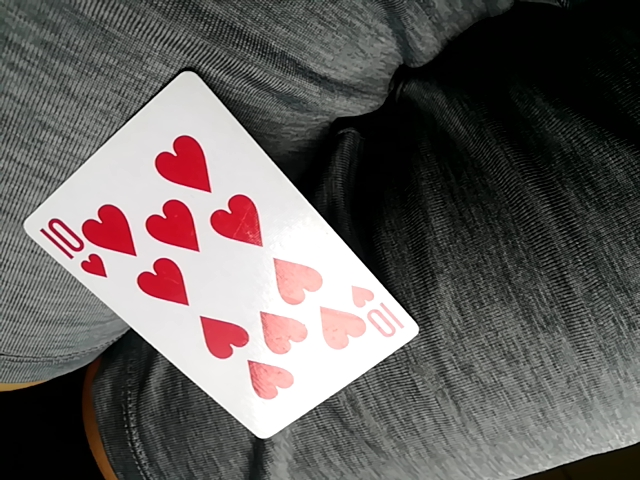hx 10: (28, 73, 420, 436)
